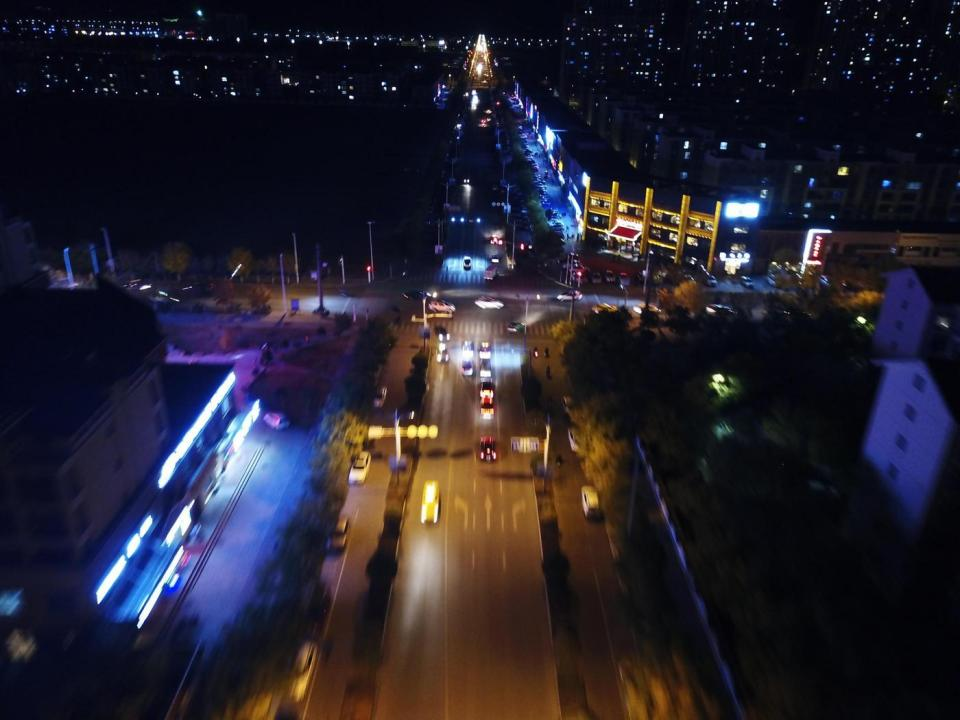bus: (464, 255, 471, 268)
car: (286, 639, 318, 697), (305, 584, 331, 636), (420, 480, 440, 524), (348, 450, 371, 486), (326, 516, 350, 549), (581, 485, 603, 518), (704, 302, 737, 319), (705, 421, 733, 440), (782, 305, 812, 322), (122, 278, 152, 293), (752, 306, 786, 319), (402, 288, 437, 300), (568, 427, 585, 451), (190, 281, 216, 296), (480, 437, 496, 461), (475, 296, 504, 309), (592, 303, 620, 316), (840, 278, 866, 292), (372, 385, 387, 408), (479, 396, 494, 419), (428, 300, 455, 312), (53, 277, 82, 288), (479, 377, 494, 397), (557, 290, 582, 302), (795, 279, 812, 296), (434, 324, 450, 342), (148, 290, 168, 304), (506, 320, 525, 334), (818, 274, 836, 288), (562, 396, 575, 415), (436, 344, 449, 362), (634, 305, 660, 314), (618, 272, 631, 290), (637, 270, 655, 283), (461, 340, 474, 357), (460, 358, 473, 375), (558, 253, 578, 263), (704, 273, 717, 288), (679, 305, 694, 318), (480, 359, 491, 376), (562, 261, 581, 270), (656, 269, 669, 282), (684, 274, 696, 288), (480, 342, 490, 358), (571, 273, 586, 283), (605, 270, 616, 283), (740, 276, 753, 286), (569, 266, 586, 273), (550, 224, 564, 232), (591, 272, 601, 283), (404, 166, 419, 173), (526, 245, 535, 256), (548, 220, 564, 226), (552, 231, 564, 238), (553, 238, 565, 245), (545, 213, 561, 218), (490, 234, 497, 244), (545, 209, 559, 214), (546, 216, 560, 221), (538, 192, 550, 197), (426, 205, 433, 213), (492, 255, 499, 263), (518, 198, 526, 205), (547, 220, 560, 224), (530, 163, 539, 168), (535, 184, 546, 188), (540, 202, 551, 206), (522, 147, 532, 151), (530, 167, 538, 172), (537, 188, 547, 192), (523, 223, 531, 228), (450, 64, 459, 68), (492, 184, 498, 190), (532, 173, 541, 177), (532, 177, 541, 181), (521, 209, 527, 215), (523, 217, 530, 222), (534, 181, 545, 184), (454, 58, 462, 62), (520, 141, 528, 145), (524, 154, 532, 158), (526, 159, 534, 163), (539, 198, 547, 202), (442, 97, 448, 102), (464, 176, 469, 182), (517, 190, 522, 195), (452, 61, 460, 64), (520, 144, 528, 147), (471, 88, 476, 92), (497, 122, 502, 126), (444, 90, 450, 93), (497, 118, 503, 121), (482, 119, 486, 123), (481, 123, 485, 127), (508, 150, 512, 154), (505, 134, 509, 138), (524, 151, 532, 153), (486, 110, 491, 113), (515, 119, 520, 122), (517, 128, 522, 131), (506, 146, 511, 149), (520, 204, 525, 207), (520, 138, 527, 140), (482, 80, 486, 83), (487, 117, 491, 120), (516, 125, 522, 127), (518, 132, 524, 134), (504, 139, 508, 142), (497, 114, 503, 116), (506, 142, 510, 144), (472, 93, 477, 94)
truck: (484, 265, 498, 279), (544, 170, 548, 176)
van: (263, 411, 290, 430), (767, 274, 781, 288), (518, 135, 526, 138)
